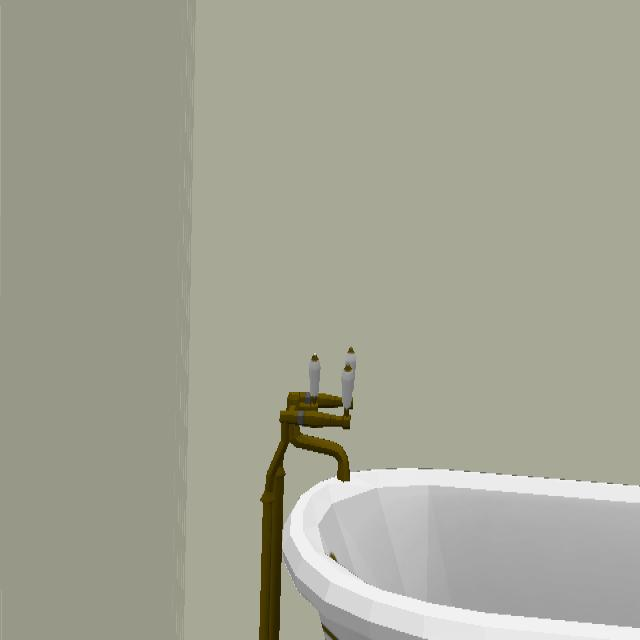bathtube: (281, 469, 640, 640)
